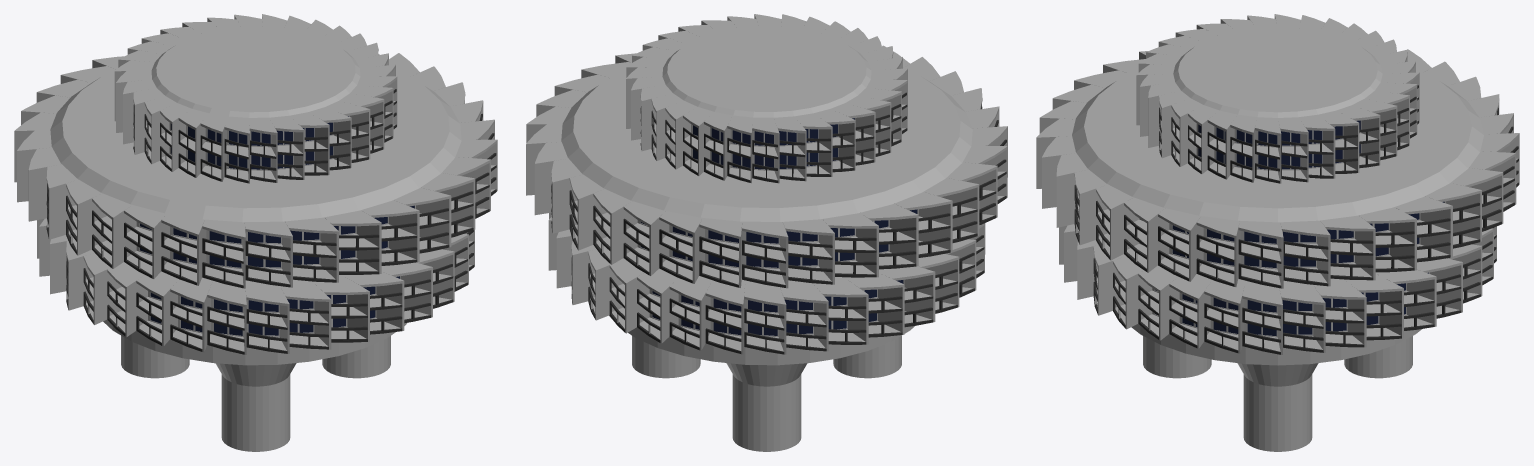
The model's file is building1.fbx.
3 views of the same model, side by side, from view 1: azimuth 30°, elevation 25°; view 2: azimuth 150°, elevation 25°; view 3: azimuth 270°, elevation 25° (orthographic).
Parts seen in each view (by area): view 1: Cylinder.003, Cylinder.002, Cylinder.009, Cylinder.005, Cylinder.010, Cylinder.008, Cylinder.001, Cylinder.007, Cylinder.006; view 2: Cylinder.003, Cylinder.002, Cylinder.005, Cylinder.009, Cylinder.010, Cylinder.007, Cylinder.001, Cylinder.006, Cylinder.008; view 3: Cylinder.003, Cylinder.002, Cylinder.009, Cylinder.005, Cylinder.010, Cylinder.006, Cylinder.001, Cylinder.007, Cylinder.008.
Boxes of the visible parts, left/top/right/bottom form: Cylinder.003: left=14, top=53, right=497, bottom=288; Cylinder.002: left=37, top=218, right=474, bottom=354; Cylinder.009: left=114, top=14, right=397, bottom=183; Cylinder.005: left=50, top=70, right=461, bottom=222; Cylinder.010: left=151, top=28, right=360, bottom=117; Cylinder.008: left=215, top=363, right=296, bottom=451; Cylinder.001: left=103, top=320, right=407, bottom=365; Cylinder.007: left=121, top=335, right=189, bottom=378; Cylinder.006: left=322, top=336, right=390, bottom=378; Cylinder.003: left=526, top=45, right=1007, bottom=288; Cylinder.002: left=548, top=212, right=985, bottom=354; Cylinder.005: left=561, top=68, right=972, bottom=221; Cylinder.009: left=626, top=14, right=907, bottom=183; Cylinder.010: left=662, top=28, right=871, bottom=117; Cylinder.007: left=726, top=363, right=807, bottom=451; Cylinder.001: left=609, top=315, right=914, bottom=365; Cylinder.006: left=632, top=336, right=700, bottom=378; Cylinder.008: left=833, top=335, right=901, bottom=378; Cylinder.003: left=1036, top=49, right=1519, bottom=288; Cylinder.002: left=1059, top=224, right=1496, bottom=354; Cylinder.009: left=1136, top=14, right=1419, bottom=183; Cylinder.005: left=1072, top=69, right=1483, bottom=222; Cylinder.010: left=1173, top=28, right=1382, bottom=117; Cylinder.006: left=1237, top=363, right=1318, bottom=451; Cylinder.001: left=1131, top=323, right=1421, bottom=365; Cylinder.007: left=1344, top=336, right=1412, bottom=378; Cylinder.008: left=1143, top=336, right=1211, bottom=378.
Size of the model in its own units: 7816 by 5675 by 7816.
